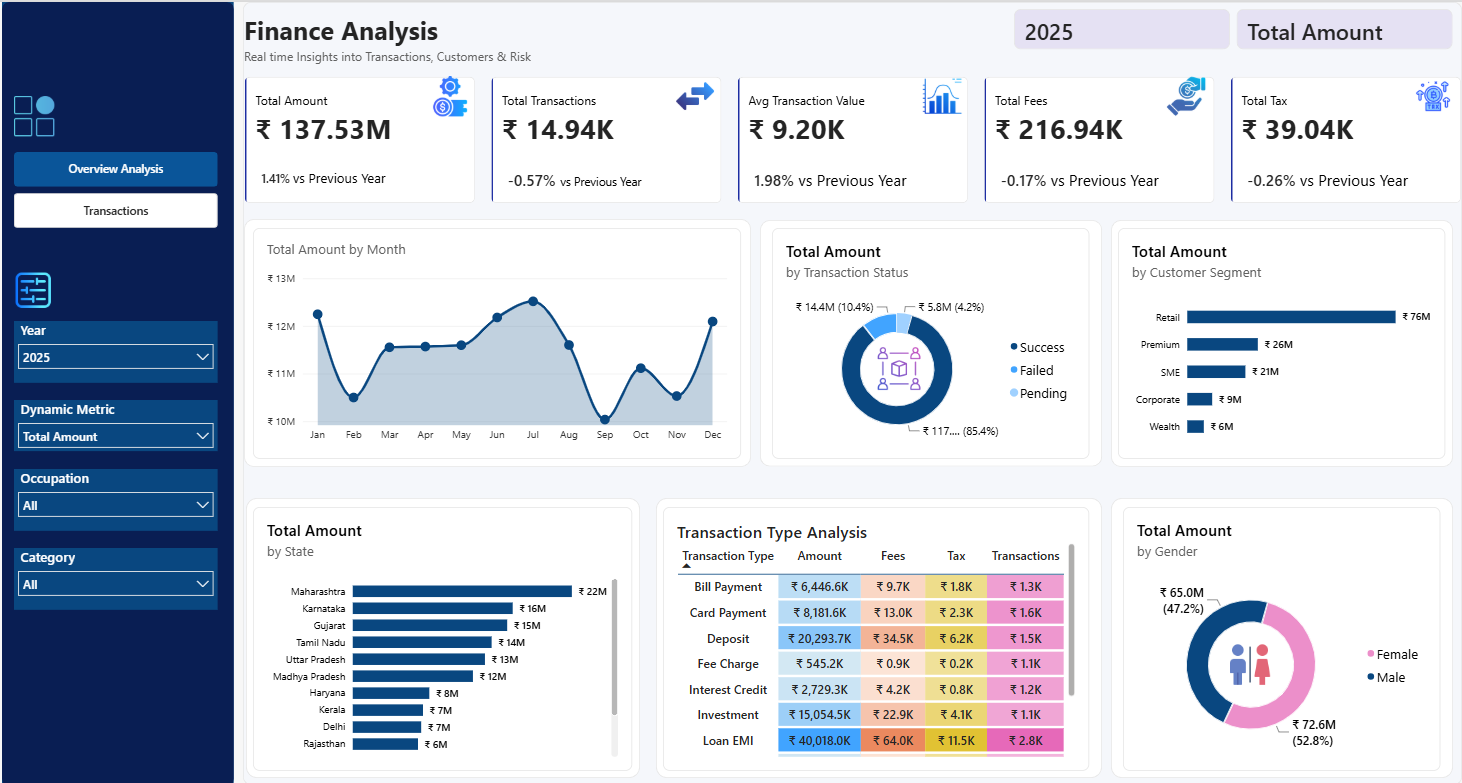

What the dashboard file says about the page in this screenshot:
{"tool":"powerbi","page":{"name":"Overview Analysis","canvas":[1800,950],"ordinal":0},"visuals":[{"type":"shape","box":[18.2,0,281.4,950.9],"z":0},{"type":"shape","box":[310.5,0,1478.6,949.7],"z":1000},{"type":"image","box":[21.1,8.7,259.3,49.6],"z":2000},{"type":"cardVisual","fields":{"Data":["finance_transactions.Dashboard Title"]},"box":[299.6,0,423.3,89.8],"z":3000},{"type":"cardVisual","fields":{"Data":["finance_transactions.Total Amount","finance_transactions.Total Transactions","finance_transactions.Avg Transaction Value","finance_transactions.Total Fees","finance_transactions.Total Tax"]},"box":[311.7,89.8,1477.4,155],"z":4000},{"type":"slicer","fields":{"Values":["Calendar Table.Year"]},"box":[32.7,386.9,247.4,75.2],"z":5000},{"type":"image","box":[537.3,89.8,48.5,48.5],"z":6000},{"type":"image","box":[834.5,89.8,48.5,48.5],"z":7000},{"type":"image","box":[1430.1,89.8,48.5,48.5],"z":8000},{"type":"image","box":[1134.1,89.8,48.5,48.5],"z":9000},{"type":"image","box":[1729.6,89.8,48.5,48.5],"z":10000},{"type":"slicer","fields":{"Values":["Dynamic Metric.Dynamic Metric"]},"box":[32.7,483.2,247.4,61.9],"z":11000},{"type":"shape","box":[311.7,263.2,615,300.8],"z":12000},{"type":"areaChart","fields":{"Category":["Calendar Table.Month"],"Y":["finance_transactions.Total Amount"]},"box":[322.6,274.1,591.9,280.2],"z":13000},{"type":"cardVisual","fields":{"Data":["finance_transactions.Selected Year","finance_transactions.Selected Dynamic Measure"]},"box":[1245.7,8.5,532.5,49.7],"z":14000},{"type":"shape","box":[937.6,264.4,415,299],"z":15000},{"type":"donutChart","fields":{"Category":["finance_transactions.transaction_status"],"Y":["finance_transactions.Total Amount"]},"box":[952.2,274.1,384.5,280.2],"z":16000},{"type":"shape","box":[1363.3,264.4,414.8,299.6],"z":17000},{"type":"barChart","fields":{"Category":["customers.customer_segment"],"Y":["finance_transactions.Total Amount"]},"box":[1371.8,274.1,396.6,280.2],"z":18000},{"type":"shape","box":[314.2,601.6,477.9,339.6],"z":18001},{"type":"barChart","fields":{"Category":["customers.state"],"Y":["finance_transactions.Total Amount"]},"box":[322.6,612.5,459.7,320.2],"z":18002},{"type":"shape","box":[811.5,601.6,541,339.6],"z":18003},{"type":"tableEx","title":"Transaction Type Analysis","fields":{"Values":["finance_transactions.transaction_type","finance_transactions.Total Amount","finance_transactions.Total Fees","finance_transactions.Total Tax","finance_transactions.Total Transactions"]},"box":[819.9,612.5,516.7,320.2],"z":18004},{"type":"shape","box":[1363.3,601.6,414.8,339.6],"z":18005},{"type":"donutChart","fields":{"Category":["customers.gender"],"Y":["finance_transactions.Total Amount"]},"box":[1377.9,612.5,384.5,320.2],"z":18006},{"type":"image","box":[1078.3,413.6,55.8,61.9],"z":18007},{"type":"image","box":[1504,772.6,55.8,61.9],"z":18008},{"type":"slicer","fields":{"Values":["customers.occupation"]},"box":[32.7,566,247.4,75.2],"z":18009},{"type":"slicer","fields":{"Values":["finance_transactions.merchant_category"]},"box":[32.7,662.3,247.4,75.2],"z":18010},{"type":"pageNavigator","box":[32.7,181.9,247.4,92.2],"z":18011},{"type":"image","box":[32.7,114,48.5,48.5],"z":18012},{"type":"image","box":[31.5,325.1,48.5,48.5],"z":18013}]}

Visuals, with their boxes on the page's 1800x950 design canvas (x1, y1, x2, y2). These are canvas units, not pixel positions in the 1462x783 screenshot, which may show the page scaled, cropped or inside an application window:
shape: l=18, t=0, r=300, b=951
shape: l=310, t=0, r=1789, b=950
image: l=21, t=9, r=280, b=58
cardVisual - finance_transactions.Dashboard Title: l=300, t=0, r=723, b=90
cardVisual - finance_transactions.Total Amount x finance_transactions.Total Transactions: l=312, t=90, r=1789, b=245
slicer - Calendar Table.Year: l=33, t=387, r=280, b=462
image: l=537, t=90, r=586, b=138
image: l=834, t=90, r=883, b=138
image: l=1430, t=90, r=1479, b=138
image: l=1134, t=90, r=1183, b=138
image: l=1730, t=90, r=1778, b=138
slicer - Dynamic Metric.Dynamic Metric: l=33, t=483, r=280, b=545
shape: l=312, t=263, r=927, b=564
areaChart - Calendar Table.Month x finance_transactions.Total Amount: l=323, t=274, r=914, b=554
cardVisual - finance_transactions.Selected Year x finance_transactions.Selected Dynamic Measure: l=1246, t=8, r=1778, b=58
shape: l=938, t=264, r=1353, b=563
donutChart - finance_transactions.transaction_status x finance_transactions.Total Amount: l=952, t=274, r=1337, b=554
shape: l=1363, t=264, r=1778, b=564
barChart - customers.customer_segment x finance_transactions.Total Amount: l=1372, t=274, r=1768, b=554
shape: l=314, t=602, r=792, b=941
barChart - customers.state x finance_transactions.Total Amount: l=323, t=612, r=782, b=933
shape: l=812, t=602, r=1352, b=941
"Transaction Type Analysis" tableEx: l=820, t=612, r=1337, b=933
shape: l=1363, t=602, r=1778, b=941
donutChart - customers.gender x finance_transactions.Total Amount: l=1378, t=612, r=1762, b=933
image: l=1078, t=414, r=1134, b=476
image: l=1504, t=773, r=1560, b=834
slicer - customers.occupation: l=33, t=566, r=280, b=641
slicer - finance_transactions.merchant_category: l=33, t=662, r=280, b=738
pageNavigator: l=33, t=182, r=280, b=274
image: l=33, t=114, r=81, b=162
image: l=32, t=325, r=80, b=374
